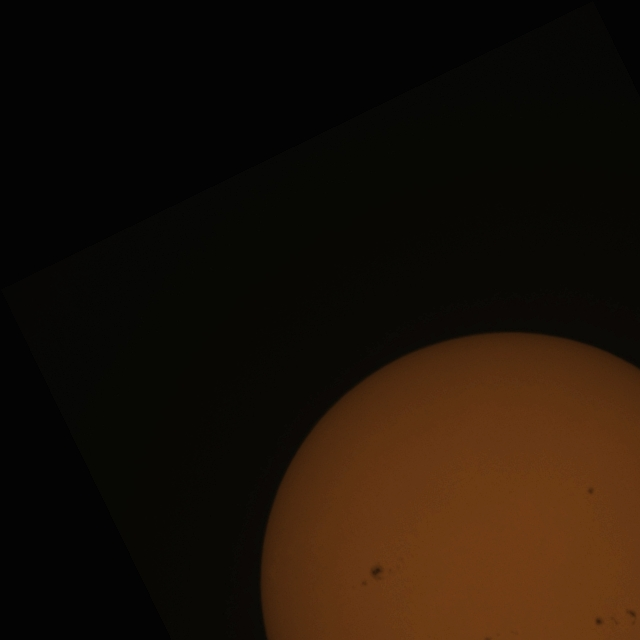sunspot: (594, 612, 630, 630), (360, 563, 385, 588), (613, 608, 638, 630), (626, 609, 639, 628), (594, 616, 605, 627), (586, 486, 595, 498)
